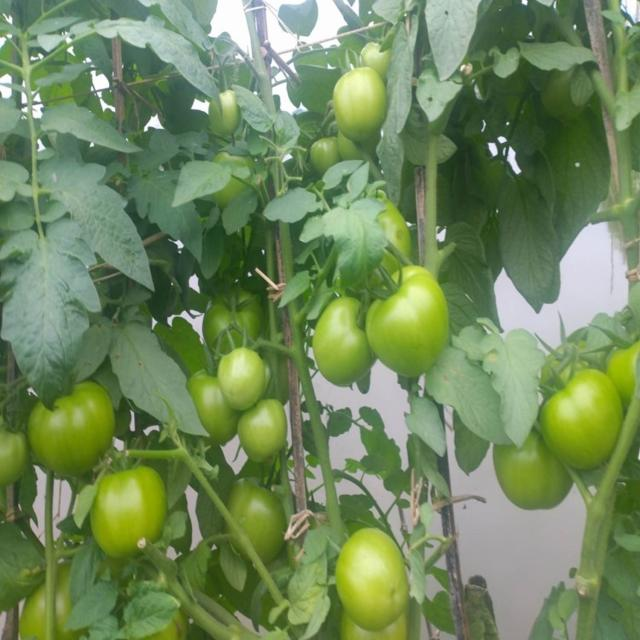tomato: (372, 263, 448, 378), (335, 523, 413, 632), (34, 383, 120, 477), (543, 370, 627, 466), (91, 469, 172, 562), (495, 430, 577, 513), (230, 475, 287, 572), (314, 298, 368, 387), (329, 68, 391, 145), (236, 399, 296, 465), (21, 564, 73, 640), (204, 292, 270, 344), (193, 370, 238, 445), (220, 347, 268, 409), (210, 150, 263, 203), (378, 195, 417, 262), (608, 335, 640, 407), (336, 611, 414, 640), (209, 90, 256, 136), (1, 419, 29, 492), (543, 74, 577, 115), (310, 140, 349, 169), (362, 40, 391, 76)
